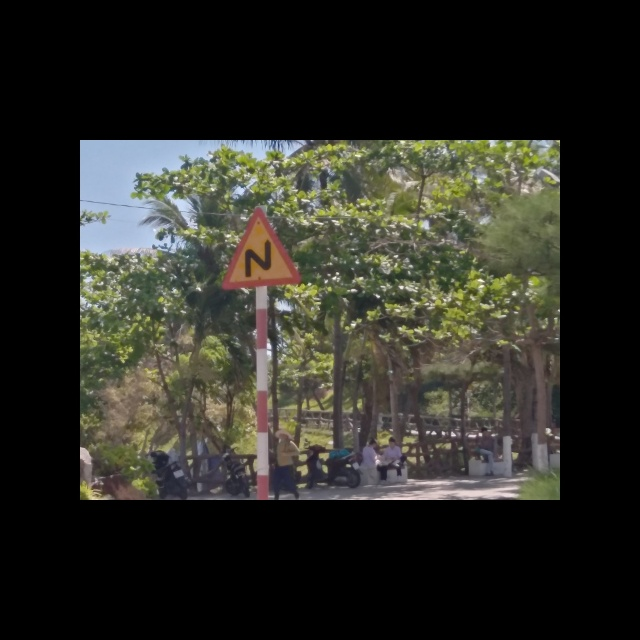Ngoặt nguy hiểm liên tiếp bên phải: (219, 206, 302, 291)
